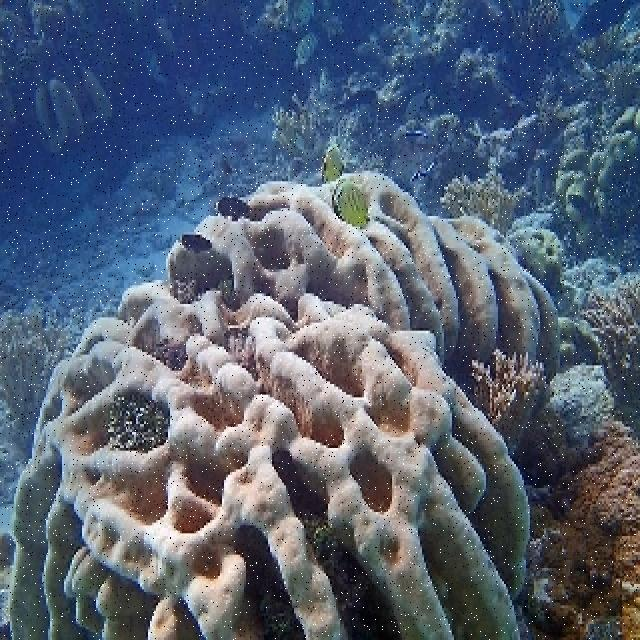fish: (45, 81, 85, 152), (78, 66, 115, 123), (333, 174, 370, 226), (210, 194, 256, 219), (319, 138, 345, 182), (410, 156, 433, 186), (37, 85, 50, 137), (294, 39, 318, 67), (183, 232, 214, 252), (399, 128, 431, 144)
reefs: (8, 173, 561, 637), (0, 297, 122, 453), (554, 107, 638, 256), (474, 348, 544, 445), (585, 283, 638, 377), (440, 176, 523, 235), (467, 114, 541, 168), (108, 390, 170, 449), (511, 227, 564, 285)
sea-floor: (532, 366, 638, 637)
